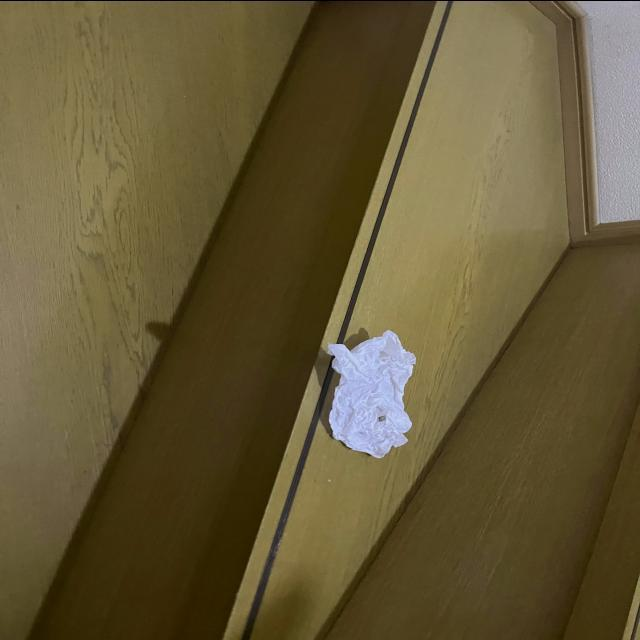Paper: (320, 329, 430, 461)
